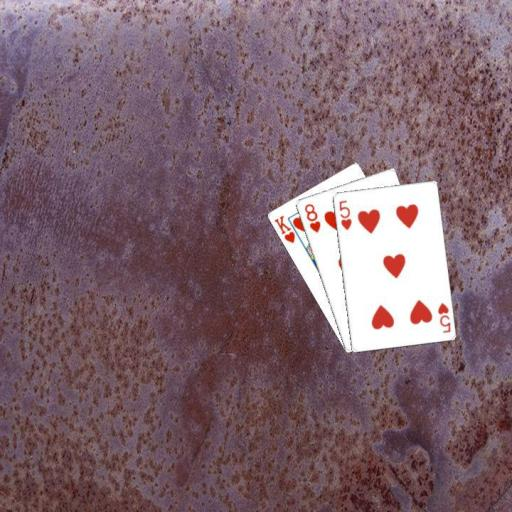5H: (435, 300, 452, 335), (336, 197, 353, 231)
8H: (301, 200, 322, 234)
KH: (271, 212, 296, 245)
